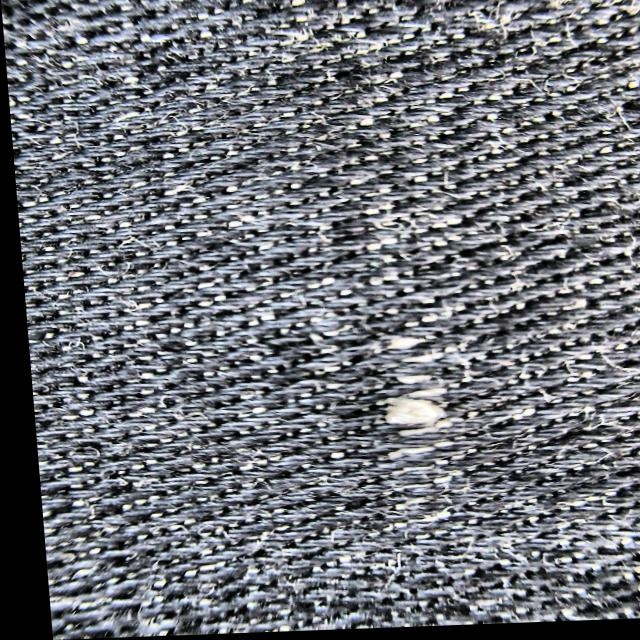Hole: (378, 331, 455, 521)
